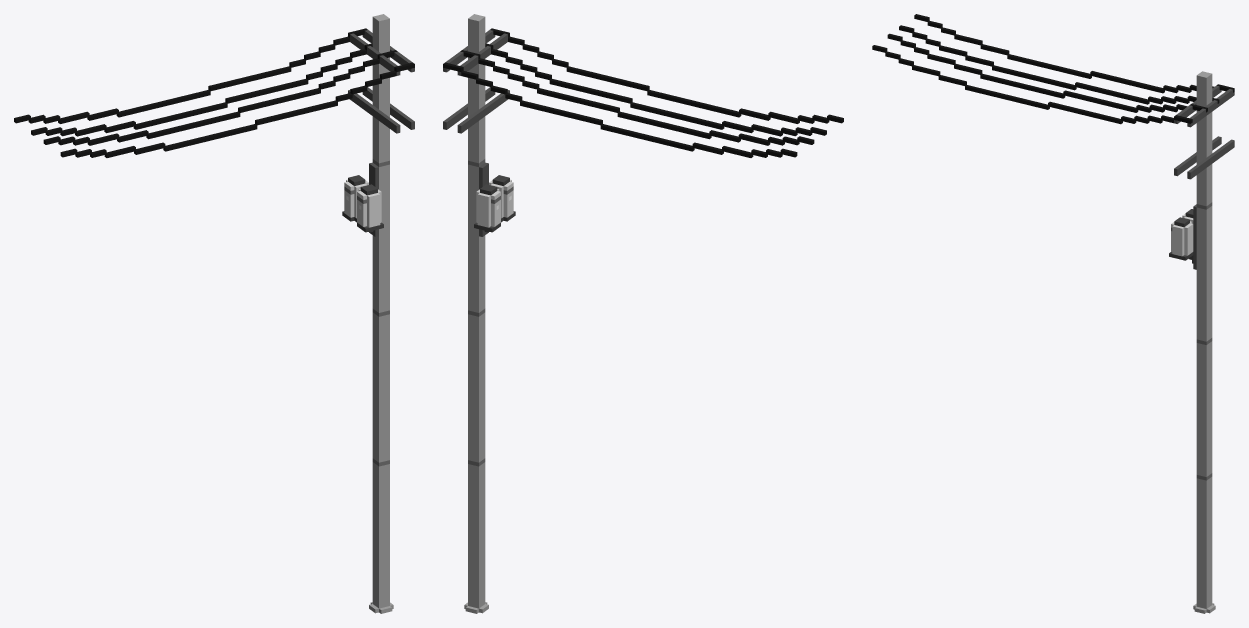
Rendered from poleTwo.glb.
The picture shows the model from 3 angles, left to right: view 1: azimuth 30°, elevation 25°; view 2: azimuth 150°, elevation 25°; view 3: azimuth 330°, elevation 25°; orthographic projection. The views are drawn at different scales.
Visible parts, largest first — view 1: ObjObject; view 2: ObjObject; view 3: ObjObject.
Boxes of the visible parts, x1=… form: ObjObject: x1=14, y1=14, x2=414, y2=613; ObjObject: x1=443, y1=14, x2=843, y2=613; ObjObject: x1=872, y1=14, x2=1234, y2=613.
Size of the model in its own units: 9.6 by 15.4 by 2.3.
1 material, 1 textured.
